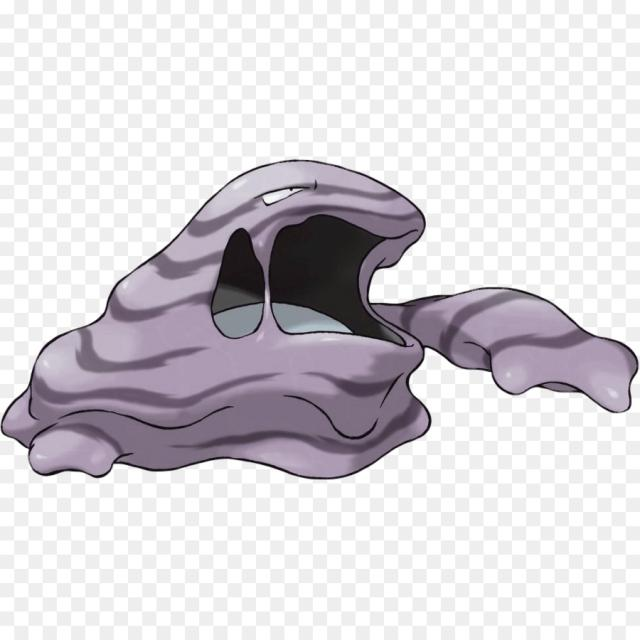Grimer: (0, 160, 630, 489)
